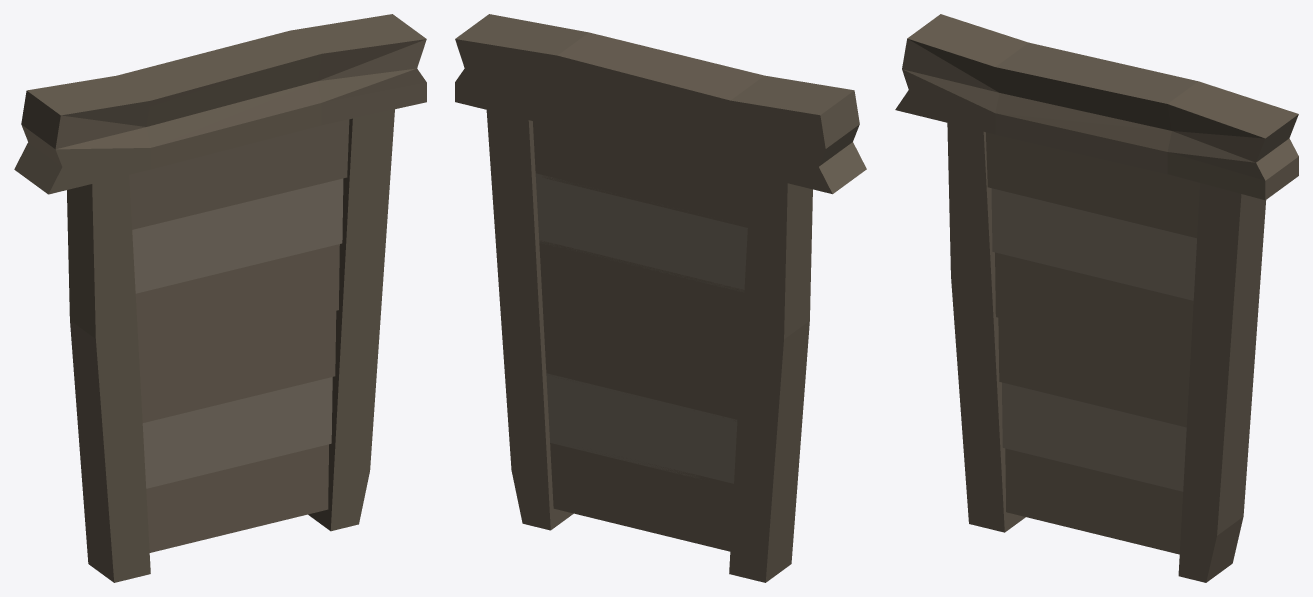
File: Washboard.glb
3 views of the same model, side by side, from view 1: azimuth 30°, elevation 25°; view 2: azimuth 150°, elevation 25°; view 3: azimuth 330°, elevation 25° (orthographic). The views are drawn at different scales.
Visible parts, largest first — view 1: Washboard; view 2: Washboard; view 3: Washboard.
Part boxes in pixels (x1,y1,x2,y2): Washboard: (14,14,426,582); Washboard: (455,14,866,582); Washboard: (895,14,1298,582).
Bounding box in the file's own units: 0.5015 × 0.6145 × 0.0786.
Materials: 1 (1 with a texture image).
